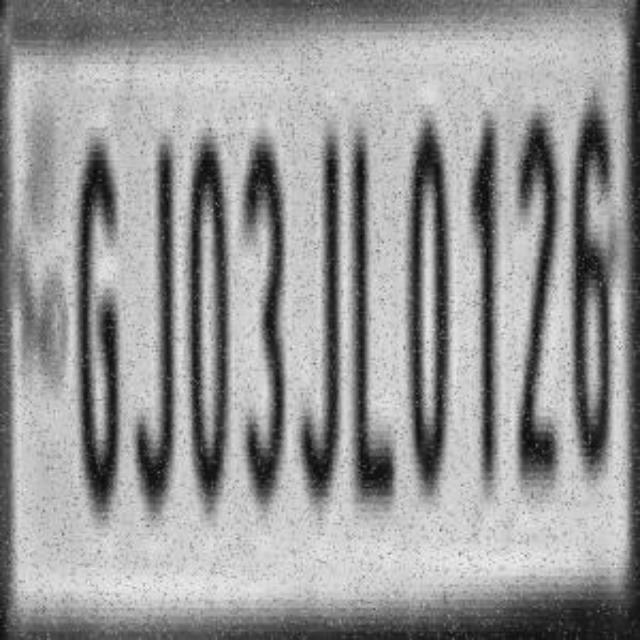License Plate: (6, 9, 630, 619)
